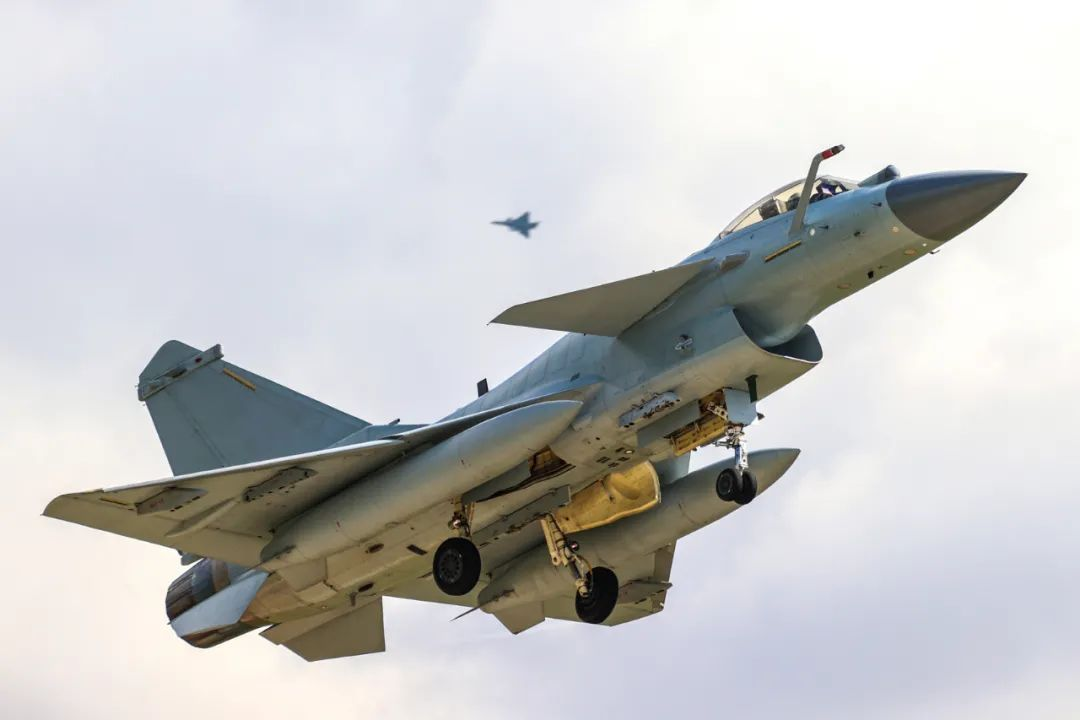airplane: (40, 144, 1029, 663), (489, 210, 542, 239)
